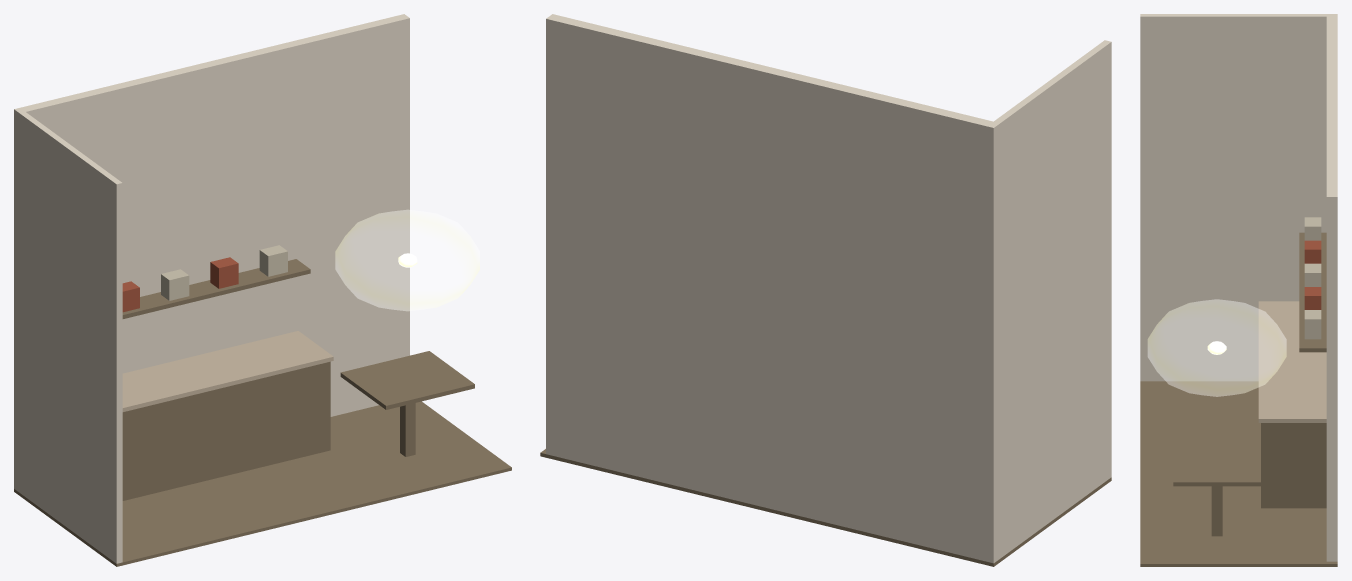
Rendered from city_proxy_home_kitchen.glb.
3 renders of one model, left to right at view 1: azimuth 30°, elevation 25°; view 2: azimuth 150°, elevation 25°; view 3: azimuth 270°, elevation 25°, orthographic. The views are drawn at different scales.
Visible parts, largest first — view 1: CityProxyHomeKitchen_Back, CityProxyHomeKitchen_Side, CityProxyHomeKitchen_Floor, CityProxyHomeKitchen_Counter, CityProxyHomeKitchen_Pendant_Halo, CityProxyHomeKitchen_Top, CityProxyHomeKitchen_Table, CityProxyHomeKitchen_Shelf, CityProxyHomeKitchen_TableLeg, CityProxyHomeKitchen_Jar4, CityProxyHomeKitchen_Jar2, CityProxyHomeKitchen_Jar3; view 2: CityProxyHomeKitchen_Back, CityProxyHomeKitchen_Side, CityProxyHomeKitchen_Floor; view 3: CityProxyHomeKitchen_Side, CityProxyHomeKitchen_Floor, CityProxyHomeKitchen_Pendant_Halo, CityProxyHomeKitchen_Top, CityProxyHomeKitchen_Back, CityProxyHomeKitchen_Counter, CityProxyHomeKitchen_Table, CityProxyHomeKitchen_Shelf, CityProxyHomeKitchen_TableLeg, CityProxyHomeKitchen_Jar4, CityProxyHomeKitchen_Jar0, CityProxyHomeKitchen_Jar1 (+2 smaller).
Boxes of the visible parts, x1=… form: CityProxyHomeKitchen_Back: x1=19, y1=14, x2=409, y2=416; CityProxyHomeKitchen_Side: x1=14, y1=108, x2=122, y2=563; CityProxyHomeKitchen_Floor: x1=14, y1=401, x2=511, y2=566; CityProxyHomeKitchen_Counter: x1=122, y1=361, x2=330, y2=500; CityProxyHomeKitchen_Pendant_Halo: x1=335, y1=210, x2=479, y2=310; CityProxyHomeKitchen_Top: x1=122, y1=331, x2=333, y2=411; CityProxyHomeKitchen_Table: x1=340, y1=351, x2=474, y2=409; CityProxyHomeKitchen_Shelf: x1=122, y1=259, x2=310, y2=318; CityProxyHomeKitchen_TableLeg: x1=400, y1=403, x2=415, y2=456; CityProxyHomeKitchen_Jar4: x1=259, y1=245, x2=287, y2=276; CityProxyHomeKitchen_Jar2: x1=161, y1=269, x2=189, y2=300; CityProxyHomeKitchen_Jar3: x1=210, y1=257, x2=238, y2=288; CityProxyHomeKitchen_Back: x1=546, y1=14, x2=993, y2=561; CityProxyHomeKitchen_Side: x1=988, y1=40, x2=1111, y2=563; CityProxyHomeKitchen_Floor: x1=540, y1=449, x2=1111, y2=566; CityProxyHomeKitchen_Side: x1=1140, y1=14, x2=1337, y2=381; CityProxyHomeKitchen_Floor: x1=1140, y1=381, x2=1337, y2=566; CityProxyHomeKitchen_Pendant_Halo: x1=1148, y1=299, x2=1286, y2=396; CityProxyHomeKitchen_Top: x1=1258, y1=301, x2=1326, y2=422; CityProxyHomeKitchen_Back: x1=1326, y1=16, x2=1337, y2=561; CityProxyHomeKitchen_Counter: x1=1261, y1=423, x2=1326, y2=508; CityProxyHomeKitchen_Table: x1=1173, y1=440, x2=1260, y2=486; CityProxyHomeKitchen_Shelf: x1=1299, y1=232, x2=1326, y2=352; CityProxyHomeKitchen_TableLeg: x1=1211, y1=486, x2=1222, y2=536; CityProxyHomeKitchen_Jar4: x1=1304, y1=310, x2=1321, y2=339; CityProxyHomeKitchen_Jar0: x1=1304, y1=217, x2=1321, y2=240; CityProxyHomeKitchen_Jar1: x1=1304, y1=240, x2=1321, y2=263.
Size of the model in its own units: 4 by 3.7 by 1.8.
